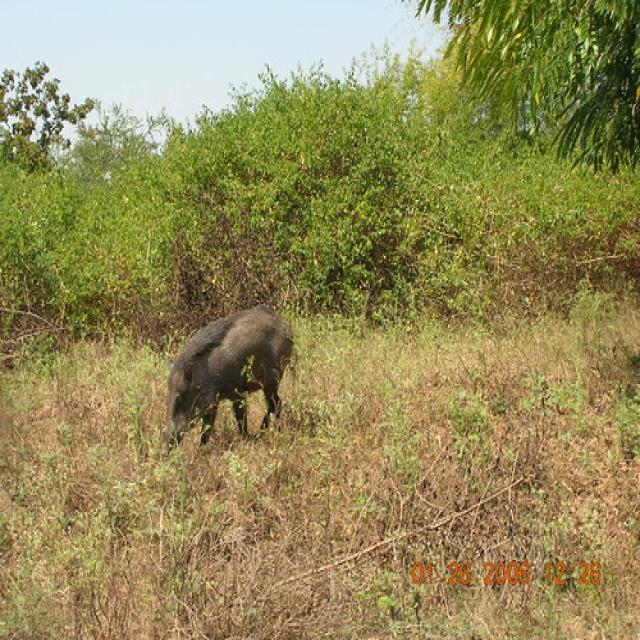boar: (146, 284, 302, 454)
